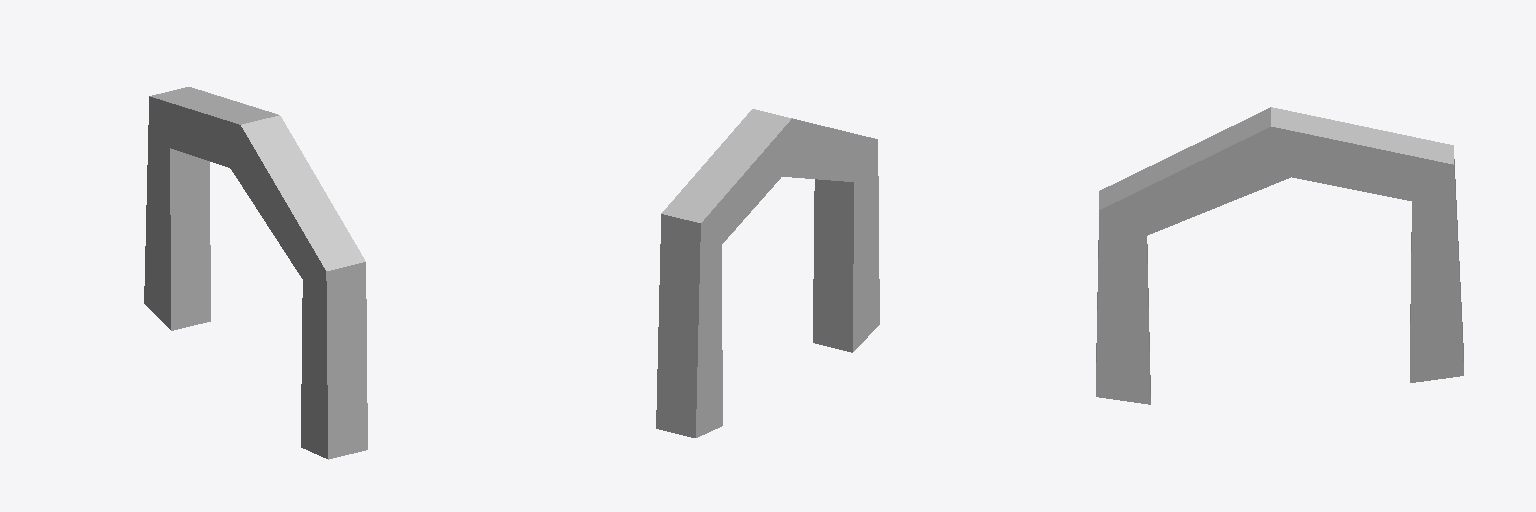
The model's file is Arch1.obj.
3 views of the same model, side by side, from view 1: azimuth 30°, elevation 25°; view 2: azimuth 150°, elevation 25°; view 3: azimuth 270°, elevation 25° (orthographic).
Visible parts, largest first — view 1: Arch1; view 2: Arch1; view 3: Arch1.
Part boxes in pixels (bbox=[...]): Arch1: bbox=[144, 87, 367, 459]; Arch1: bbox=[656, 109, 879, 437]; Arch1: bbox=[1096, 107, 1463, 404].
Size of the model in its own units: 0.6739 by 4.51 by 5.41.